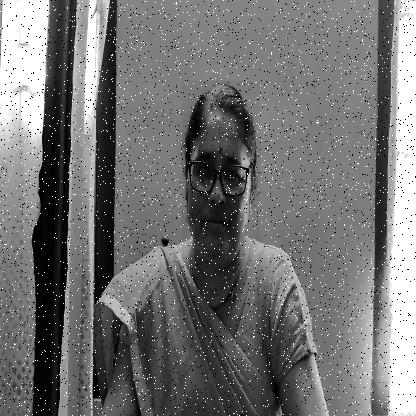Normal: (182, 81, 260, 266)
